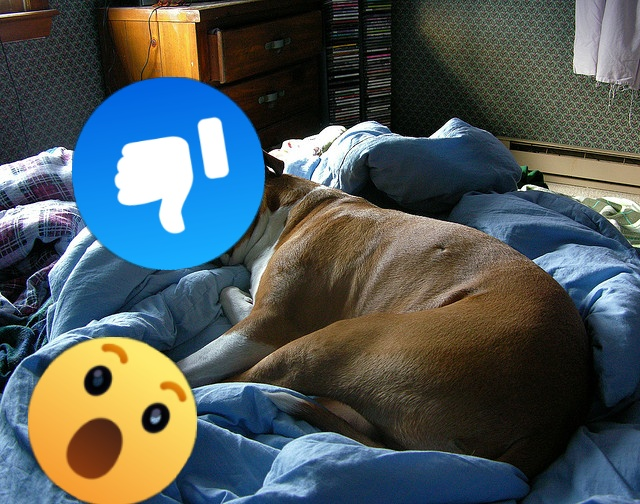like: (72, 77, 265, 270)
wow: (28, 337, 197, 504)
